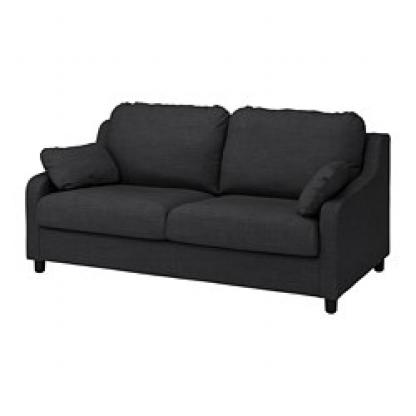Sofa: (17, 85, 394, 331)
